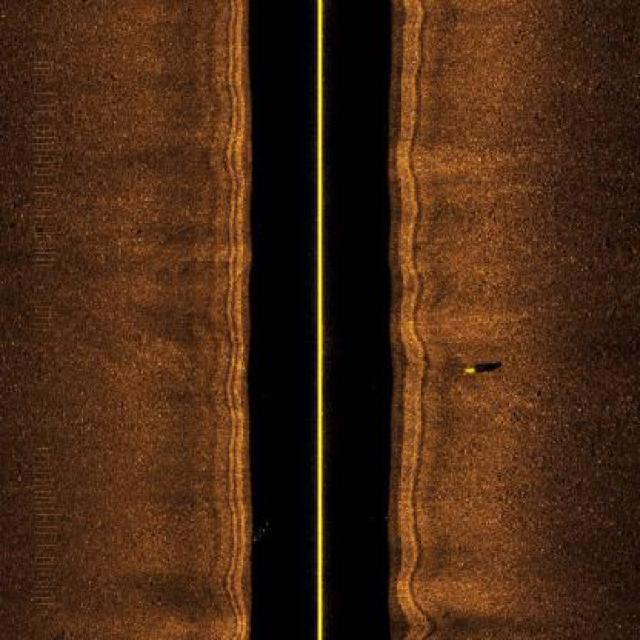mine: (458, 358, 508, 379), (460, 358, 505, 376)
